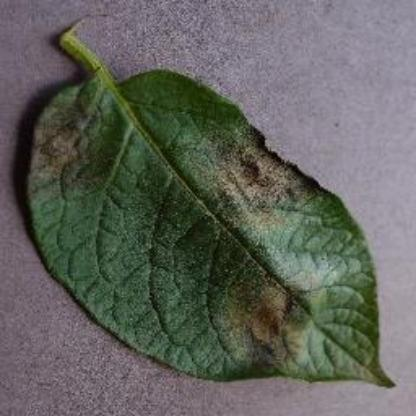Late-Blight: (19, 20, 400, 392)
